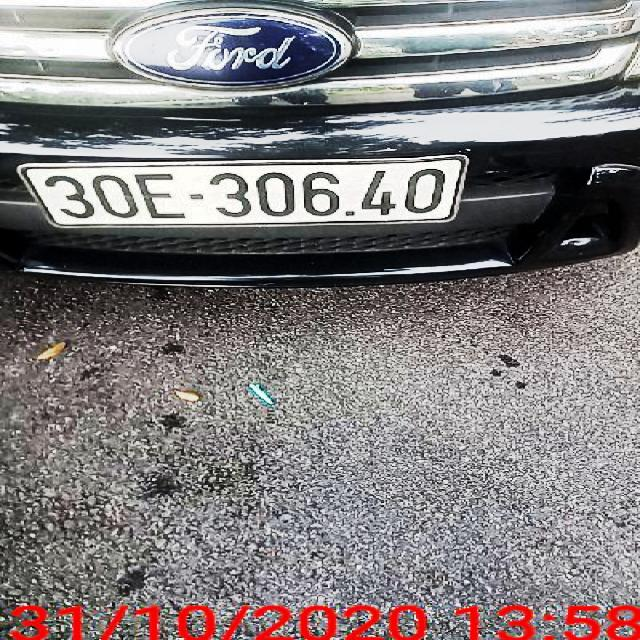license_plate: (24, 160, 459, 226)
